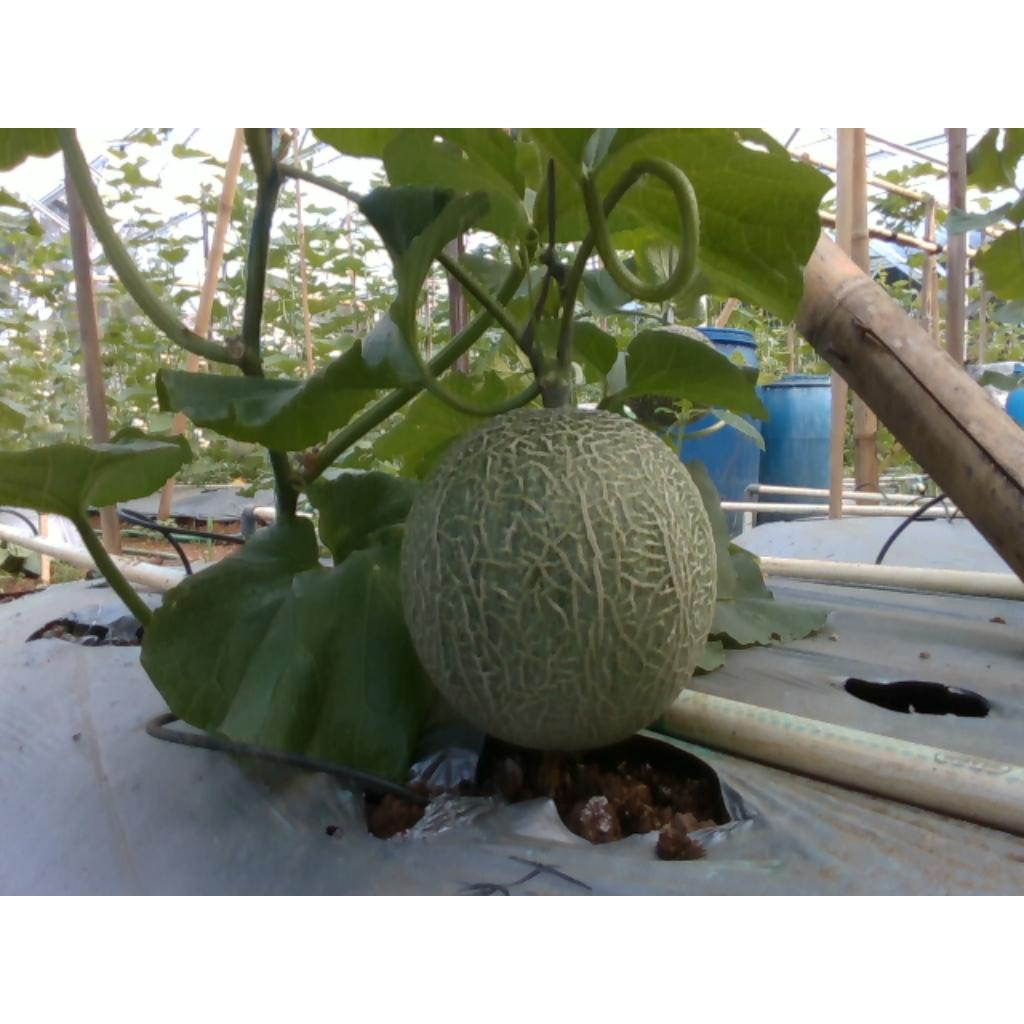melon: (403, 410, 717, 751)
